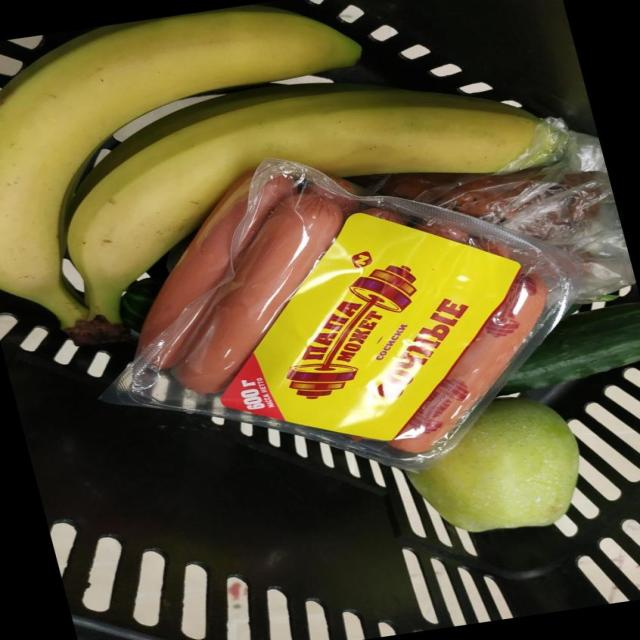Apple: (406, 397, 579, 532)
Banana: (0, 5, 360, 328), (66, 84, 539, 324)
Cucumber: (499, 302, 640, 395)
Sausages: (103, 159, 577, 470)
